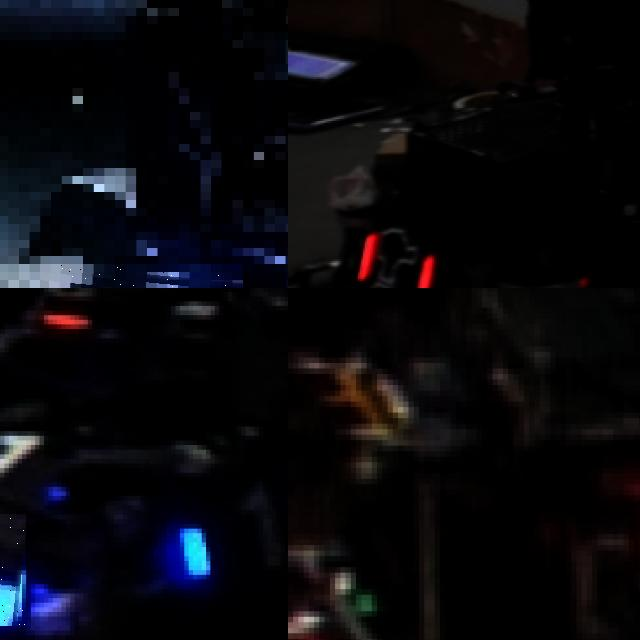B1: (175, 468, 288, 584), (40, 264, 242, 288)
Rs: (357, 222, 439, 288)
